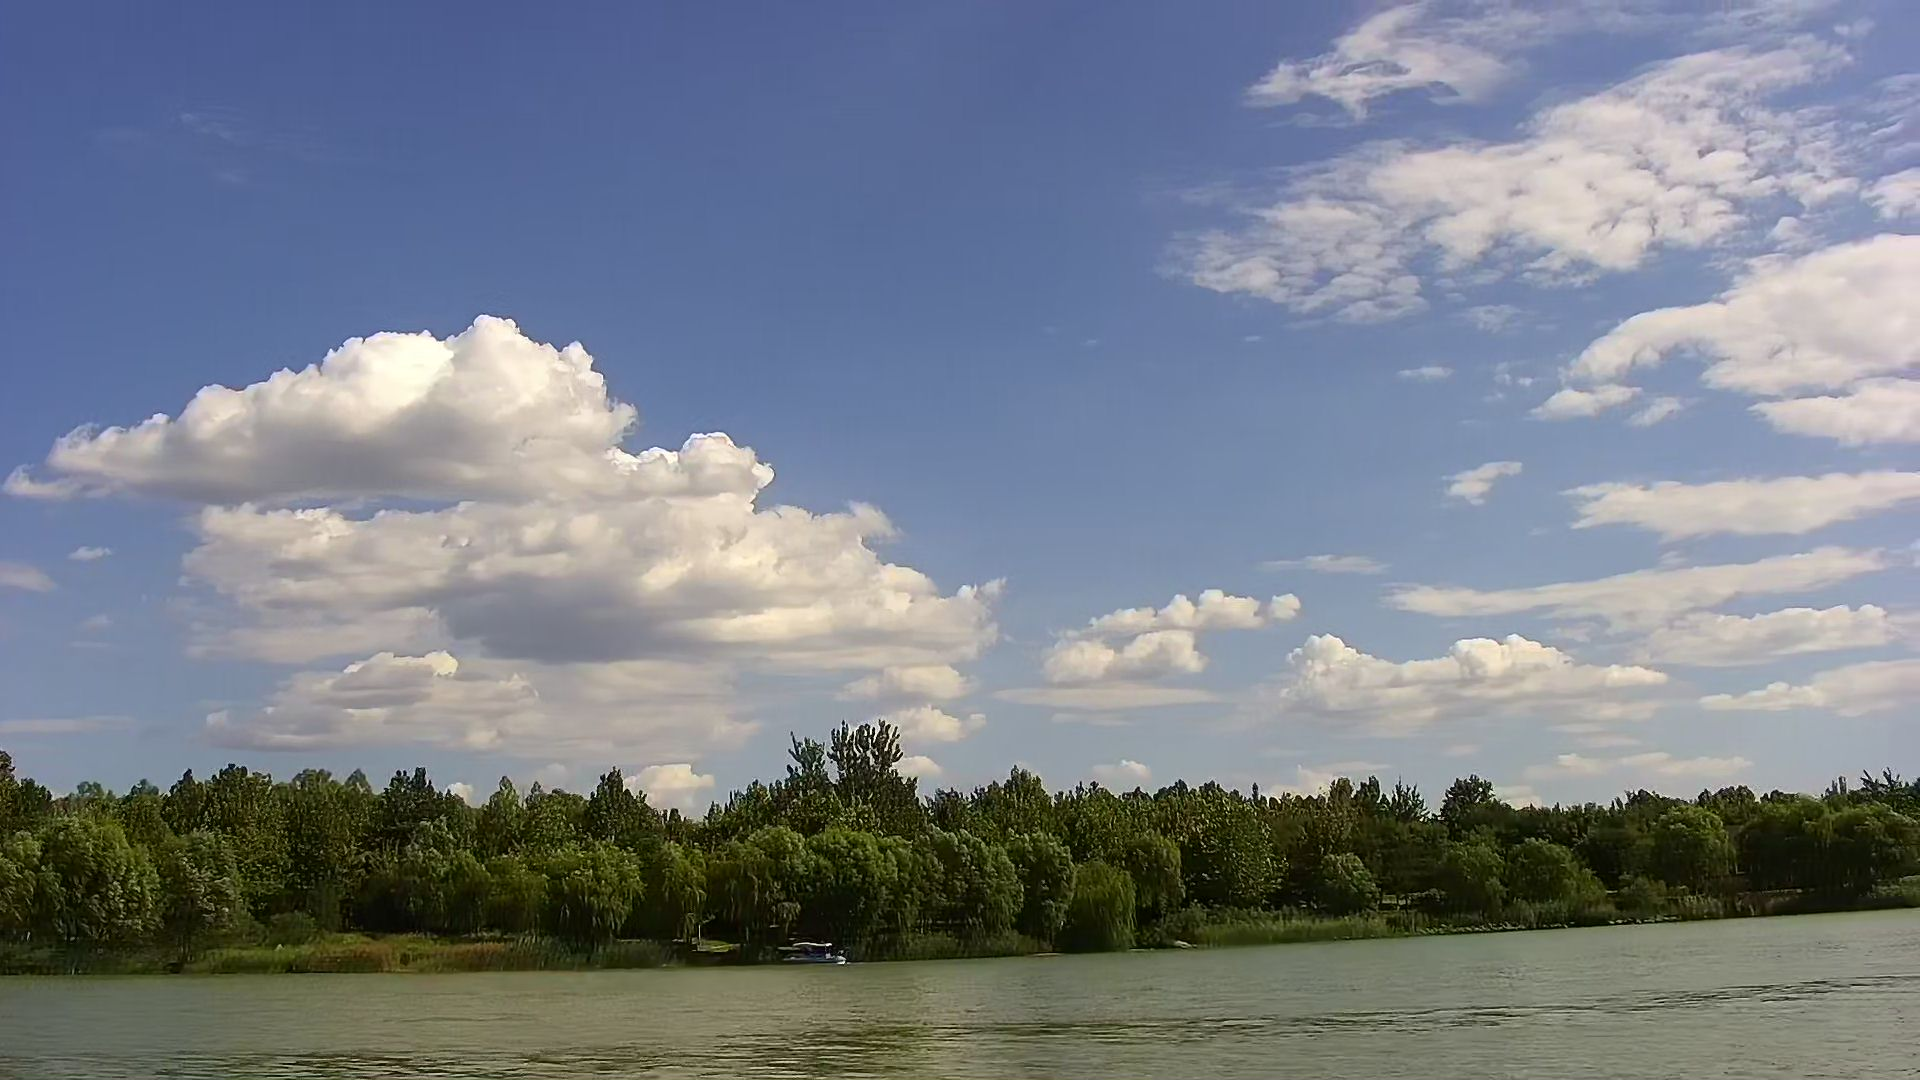boat: (778, 940, 849, 971)
